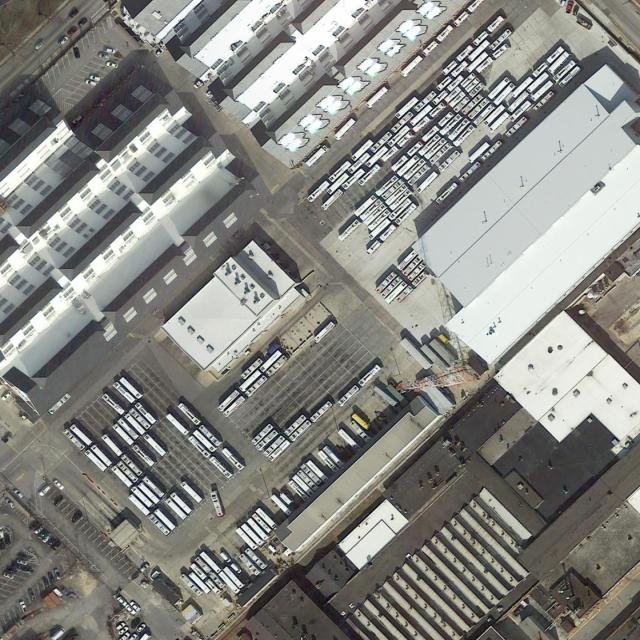large-vehicle: (412, 101, 446, 134), (390, 140, 424, 173), (441, 44, 474, 77), (435, 60, 469, 92), (531, 46, 565, 78), (432, 74, 465, 106), (381, 131, 414, 163), (422, 111, 455, 143), (395, 271, 428, 303), (422, 24, 454, 57), (475, 44, 510, 74), (473, 15, 505, 47), (444, 73, 477, 104), (449, 77, 481, 108), (453, 82, 485, 113), (366, 224, 397, 256), (453, 1, 481, 27), (357, 363, 382, 388), (337, 429, 362, 453), (409, 103, 434, 127), (246, 517, 271, 541), (388, 197, 413, 221), (265, 354, 289, 378), (238, 369, 262, 393), (245, 374, 269, 398), (222, 394, 246, 418), (255, 429, 279, 453), (395, 96, 419, 120), (358, 163, 382, 187), (328, 160, 352, 184), (365, 85, 389, 109), (221, 447, 245, 471), (116, 460, 140, 484), (132, 444, 156, 468), (241, 522, 265, 546), (235, 527, 259, 551), (179, 573, 203, 597), (435, 181, 459, 205), (240, 357, 265, 380), (209, 456, 234, 479), (353, 194, 378, 217), (552, 60, 577, 83), (218, 389, 241, 413), (268, 439, 291, 463), (283, 414, 307, 437), (289, 419, 312, 443), (317, 450, 340, 474), (259, 349, 282, 373), (390, 111, 414, 134), (387, 125, 411, 148), (414, 90, 438, 113), (400, 55, 424, 78), (306, 180, 330, 203), (188, 435, 211, 459), (193, 430, 217, 453), (198, 424, 222, 447), (111, 465, 134, 489), (178, 402, 201, 426), (85, 449, 108, 473), (90, 444, 113, 468), (124, 412, 147, 436), (102, 393, 126, 416), (218, 571, 241, 595), (165, 497, 188, 521), (384, 281, 408, 304), (467, 39, 490, 63), (418, 134, 442, 157), (403, 158, 427, 181), (407, 164, 431, 187), (416, 170, 439, 194), (367, 218, 391, 241), (359, 198, 383, 221), (547, 51, 570, 75), (487, 77, 511, 100), (467, 141, 491, 164), (482, 104, 506, 127), (487, 111, 511, 134), (439, 113, 463, 136), (453, 124, 476, 148), (251, 423, 274, 446), (263, 435, 286, 458), (310, 400, 333, 423), (337, 384, 360, 407), (322, 446, 345, 469), (292, 474, 315, 497), (370, 131, 393, 154), (327, 172, 350, 195), (351, 139, 374, 162), (255, 507, 278, 530), (144, 434, 167, 457), (166, 413, 189, 436), (112, 423, 135, 446), (129, 407, 152, 430), (142, 476, 165, 499), (138, 482, 161, 505), (223, 567, 246, 590), (199, 551, 222, 574), (128, 494, 151, 517), (170, 492, 193, 515), (466, 51, 489, 74), (397, 154, 420, 177), (394, 203, 417, 226), (338, 219, 361, 242), (507, 90, 530, 113), (493, 83, 516, 106), (509, 100, 532, 123), (505, 115, 528, 138), (447, 118, 470, 141), (305, 145, 329, 167), (365, 146, 389, 168), (342, 168, 366, 190), (117, 418, 141, 440), (113, 382, 137, 404), (130, 486, 154, 508), (389, 189, 413, 211), (375, 175, 399, 197), (385, 184, 409, 206), (367, 209, 391, 231), (558, 66, 582, 88), (48, 393, 72, 415), (270, 494, 293, 516), (306, 460, 329, 482), (301, 463, 323, 486), (314, 321, 336, 344), (334, 118, 356, 141), (348, 153, 371, 175), (120, 454, 143, 476), (102, 434, 124, 457), (135, 402, 157, 425), (119, 377, 142, 399), (70, 424, 93, 446), (63, 429, 86, 451), (245, 547, 267, 570), (239, 553, 261, 576), (180, 481, 203, 503), (149, 513, 171, 536), (154, 509, 177, 531), (380, 277, 403, 299), (424, 138, 447, 160), (438, 150, 461, 172), (364, 204, 387, 226), (429, 142, 451, 165), (350, 420, 371, 444), (381, 179, 405, 200), (297, 470, 319, 492), (321, 189, 343, 211), (288, 480, 310, 502), (189, 572, 211, 594), (375, 272, 397, 294), (490, 29, 512, 51), (473, 104, 495, 126), (533, 90, 555, 112), (481, 140, 503, 162), (511, 77, 534, 98), (531, 80, 554, 101), (527, 72, 550, 93), (251, 513, 273, 534), (402, 255, 423, 277), (459, 161, 481, 182), (461, 94, 483, 115), (468, 98, 490, 119), (407, 261, 428, 282), (397, 250, 418, 271), (210, 491, 225, 517), (190, 563, 207, 581), (194, 556, 211, 573), (205, 579, 221, 595), (210, 572, 225, 589)
small-vehicle: (37, 482, 53, 497), (128, 600, 142, 613), (52, 493, 65, 507), (115, 595, 128, 608), (149, 569, 162, 582), (193, 78, 207, 90), (53, 479, 66, 491), (124, 605, 137, 617), (58, 35, 70, 48), (571, 3, 582, 17), (139, 562, 151, 574), (33, 39, 45, 51), (118, 625, 130, 637), (27, 588, 38, 601), (41, 531, 52, 544), (67, 8, 80, 19), (47, 571, 57, 585), (1, 391, 13, 402), (51, 540, 62, 552), (5, 497, 16, 509), (13, 489, 25, 500), (33, 524, 45, 535), (78, 16, 90, 27), (18, 600, 28, 613), (41, 576, 51, 589), (38, 529, 49, 540), (71, 513, 82, 524), (67, 26, 78, 37), (115, 621, 126, 632), (3, 571, 15, 581), (73, 46, 82, 59), (106, 60, 119, 69), (5, 565, 17, 574), (85, 79, 97, 88), (3, 533, 11, 546), (89, 74, 102, 82), (98, 52, 111, 60), (54, 568, 62, 580), (16, 558, 28, 566), (137, 623, 146, 633), (155, 48, 164, 57), (105, 48, 116, 53)
